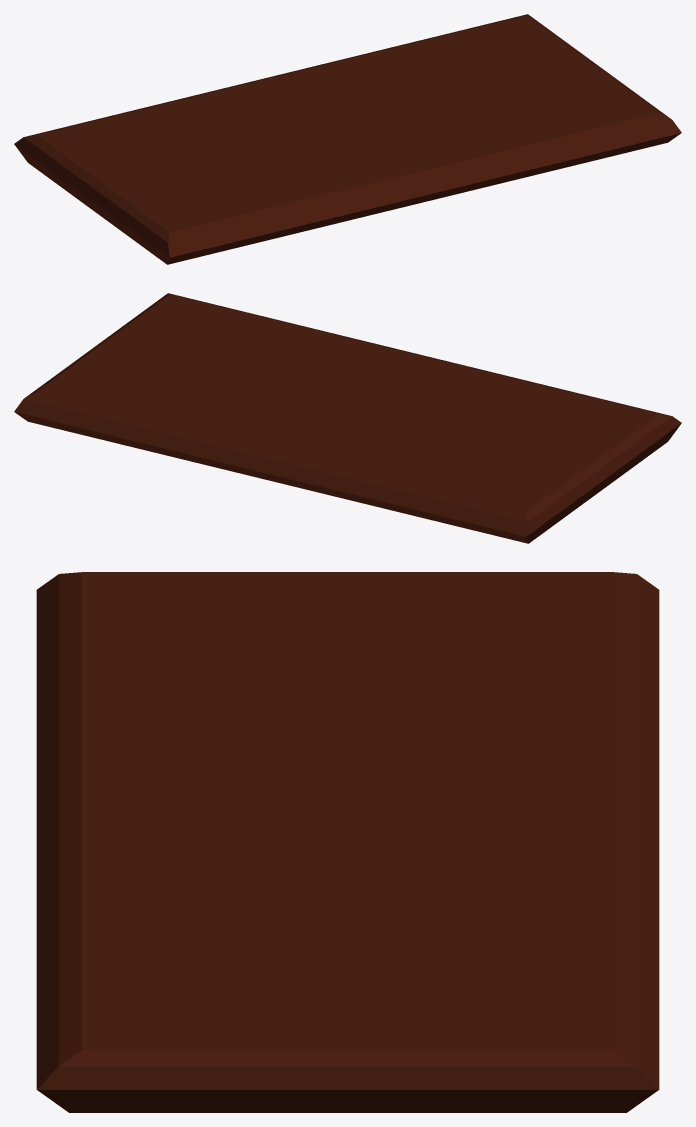
Rendered from hh_rug_small.glb.
3 views of the same model, one above another, from view 1: azimuth 30°, elevation 25°; view 2: azimuth 150°, elevation 25°; view 3: azimuth 270°, elevation 25° (orthographic). The views are drawn at different scales.
Visible parts, largest first — view 1: Carpet_C; view 2: Carpet_C; view 3: Carpet_C.
Boxes of the visible parts, box(x1,y1,x2,y2) form: Carpet_C: box(14, 14, 681, 264); Carpet_C: box(14, 293, 681, 543); Carpet_C: box(36, 572, 659, 1112).
Bounding box in the file's own units: 0.9765 × 0.0522 × 0.5137.
